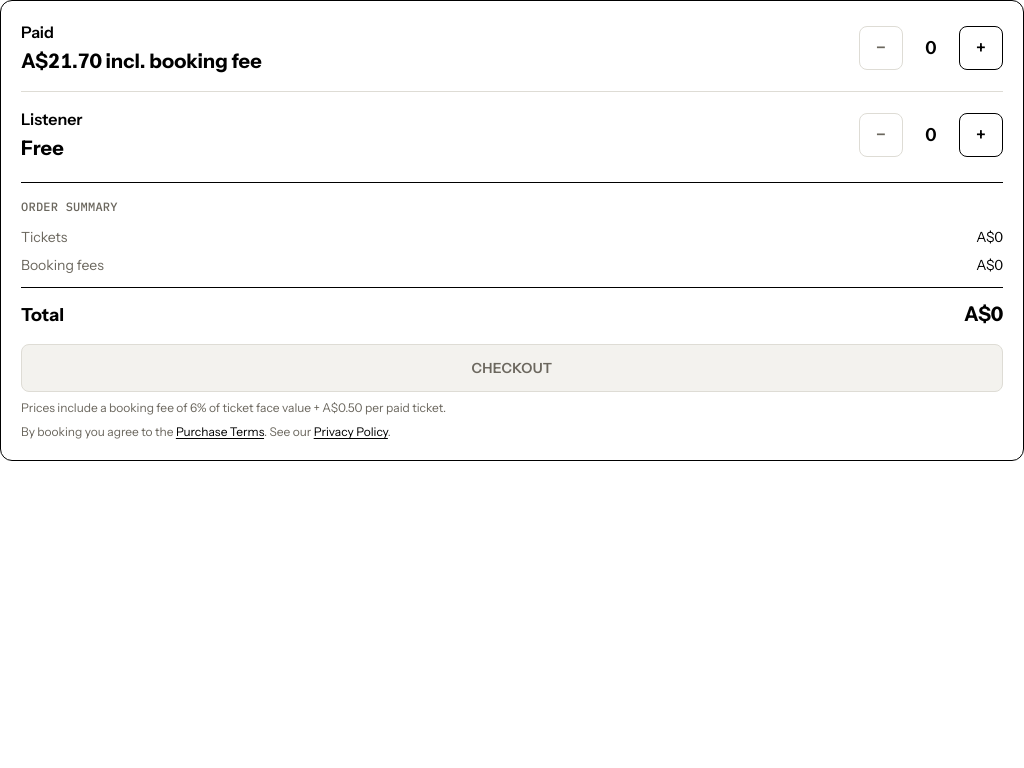
Test: Support Sheltüh in the ticket selector (general admission) › isn't offered for free tickets, even in an event with paid ones
This screenshot has width=1024, height=768.
Step 1. Click the button named "Increase quantity for Listener" → click(981, 135), box [959, 113, 1003, 157]
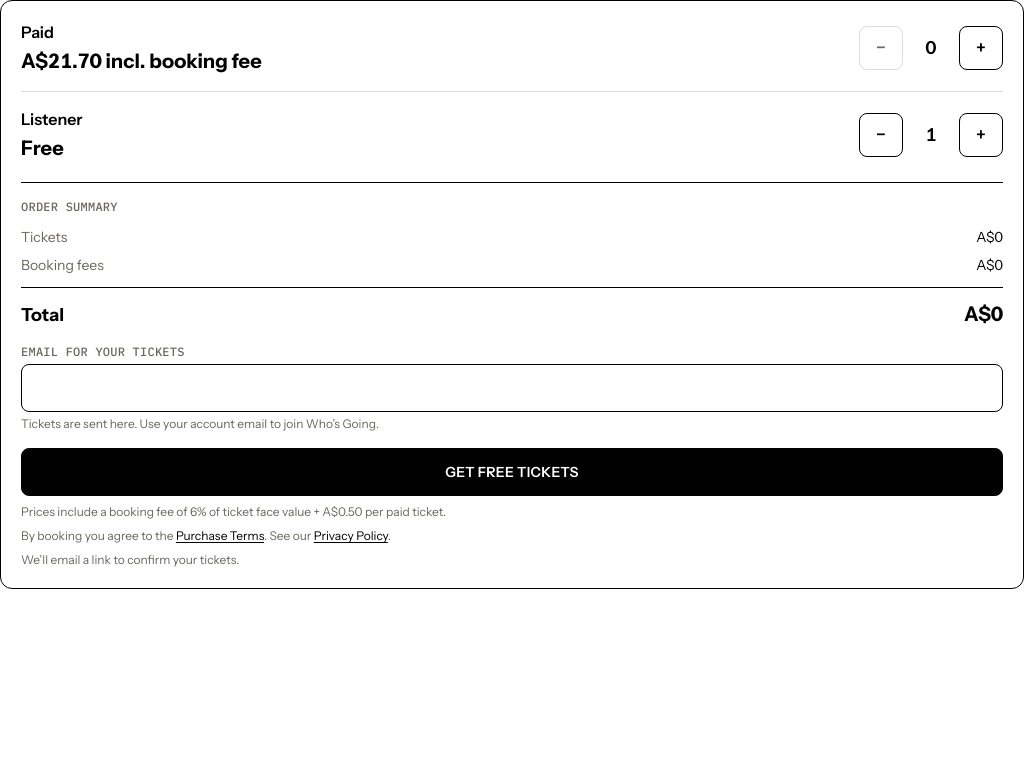
Check: the element "Support Sheltüh (optional)" is not shown
Step 2. Click the button named "Increase quantity for Paid" → click(981, 48), box [959, 26, 1003, 70]
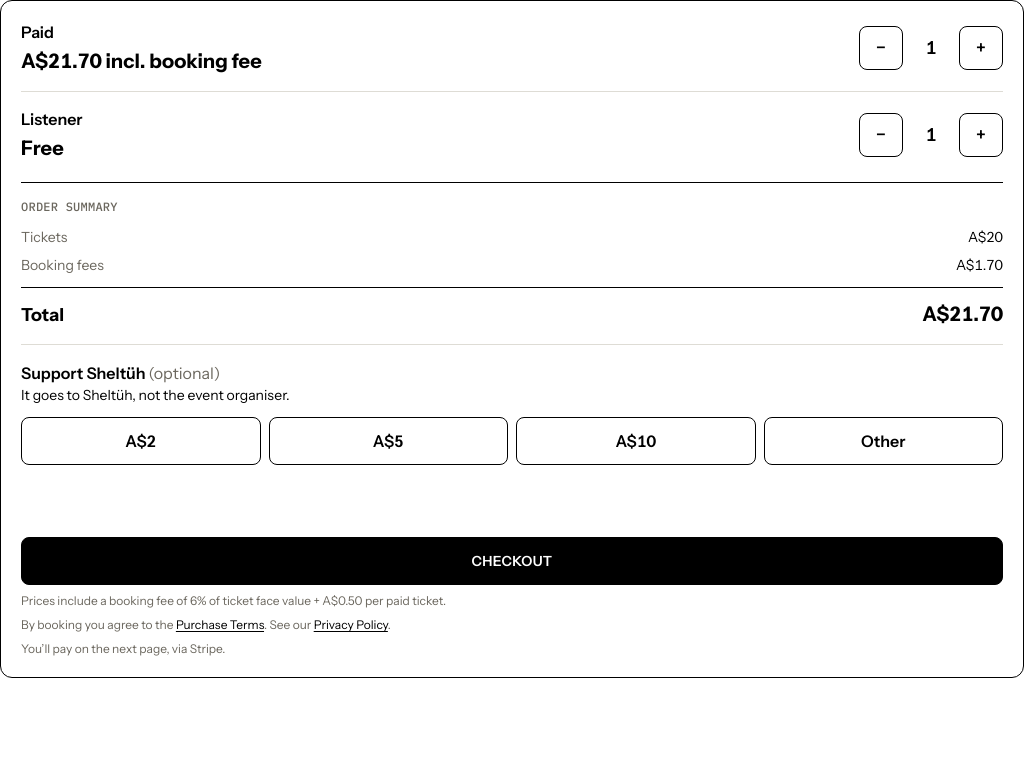
Check: the element "Support Sheltüh (optional)" is shown, box [21, 361, 1003, 521]
